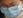with_mask: (1, 1, 23, 18)
